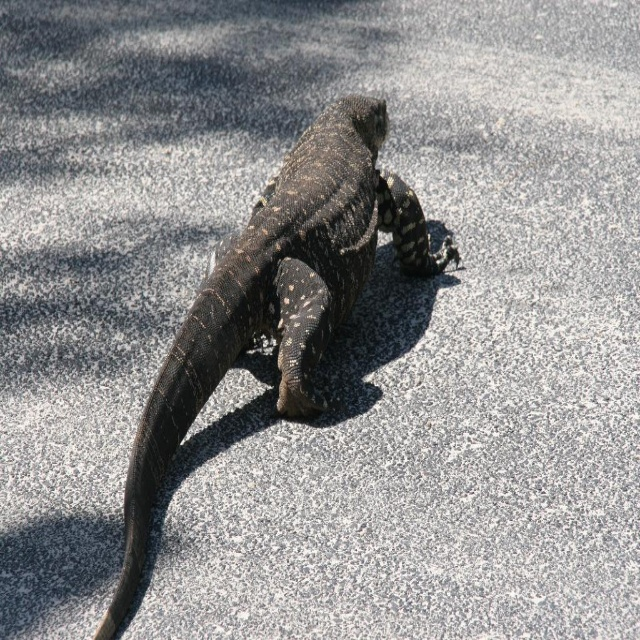Lizard: (68, 79, 460, 640)
